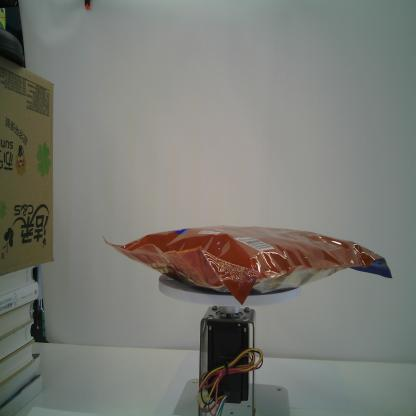Dried Food: (99, 223, 392, 308)
